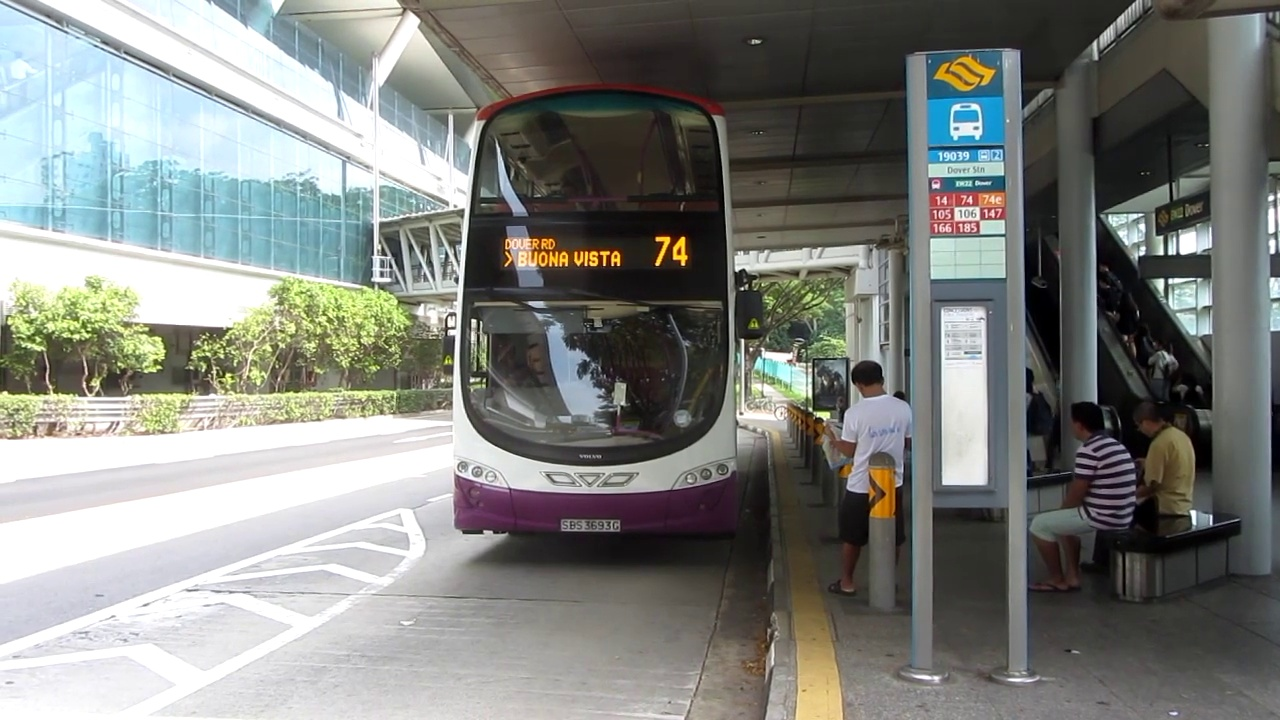bus panel: (498, 233, 695, 272)
